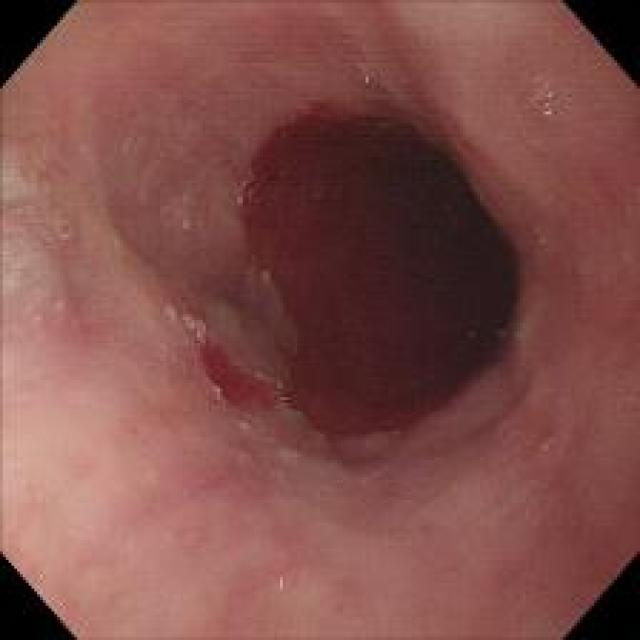color misalignment: (529, 75, 558, 124)
contrast: (258, 86, 566, 456)
